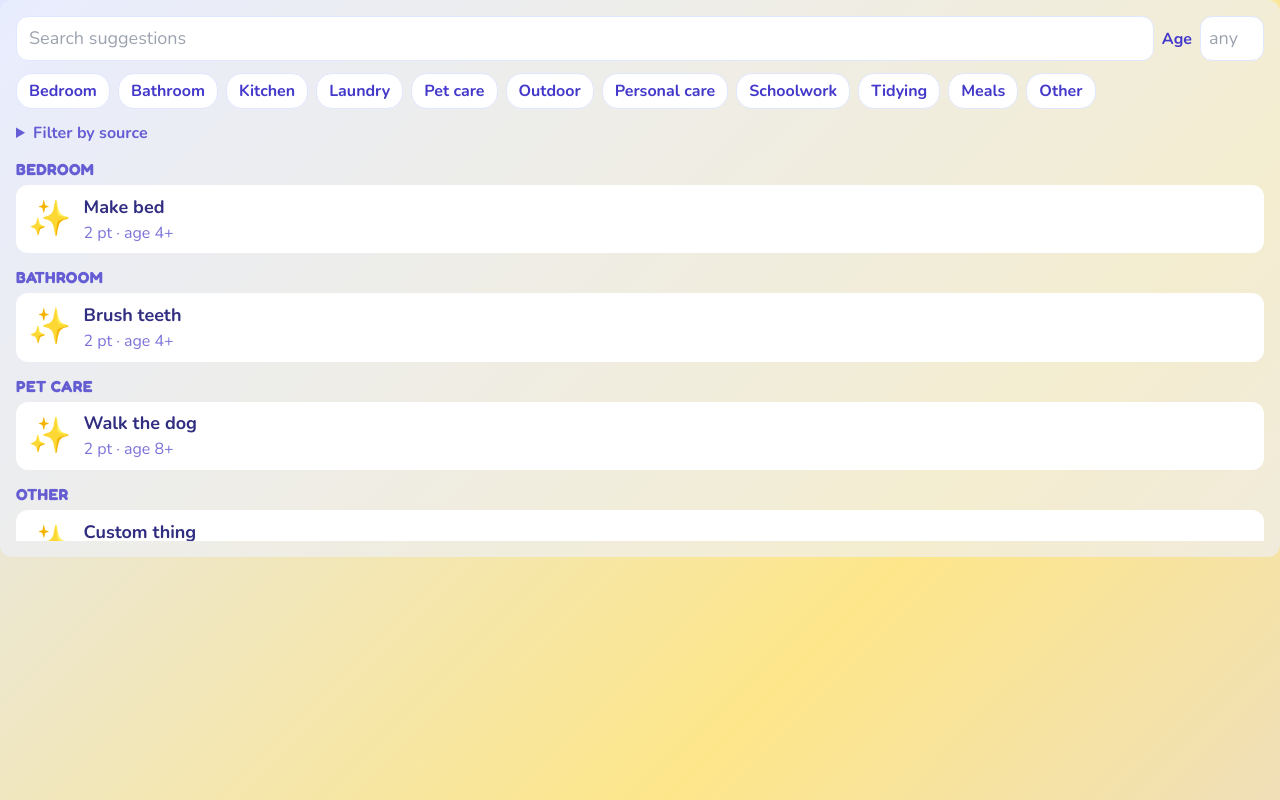
Test: BrowseSuggestionsPanel › filters by category chip toggle
Click the button "Pet care". click: {"x": 454, "y": 91}
box: [411,73,498,109]
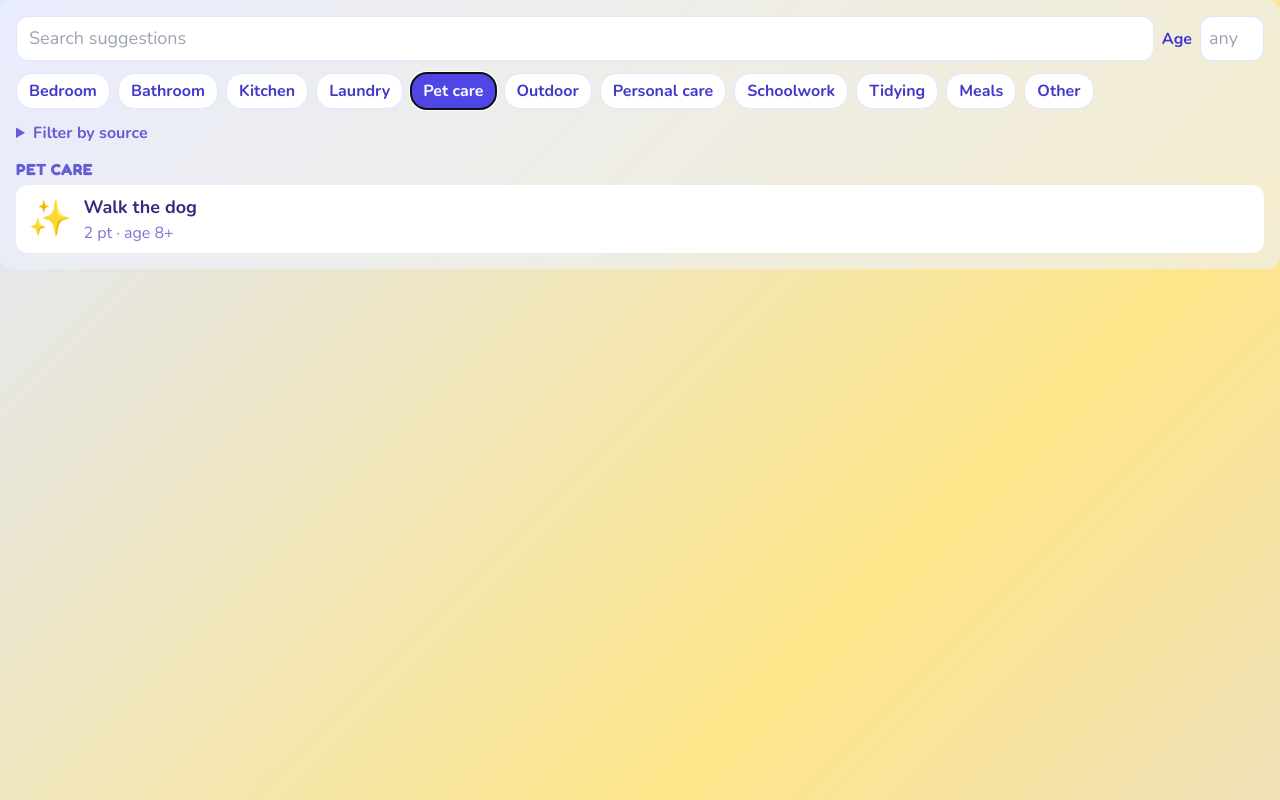
Expected: the text "Walk the dog" is shown, [84,195,197,219]
Expected: the button "Make bed" is gone
Expected: the button "Brush teeth" is gone
